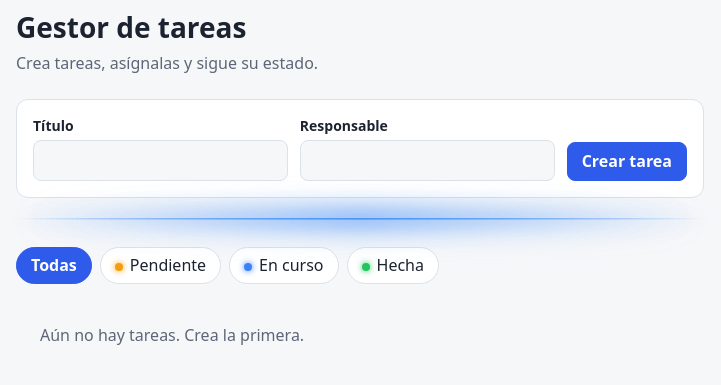
Test: App (integración) › si crear falla, la notificación «Creando…» no se queda colgada y el error lo muestra el formulario
The width and height of the screenshot is (721, 385).
In the field labelled "Título": (160, 161) top-left (33, 140), bottom-right (288, 181), type "Algo"
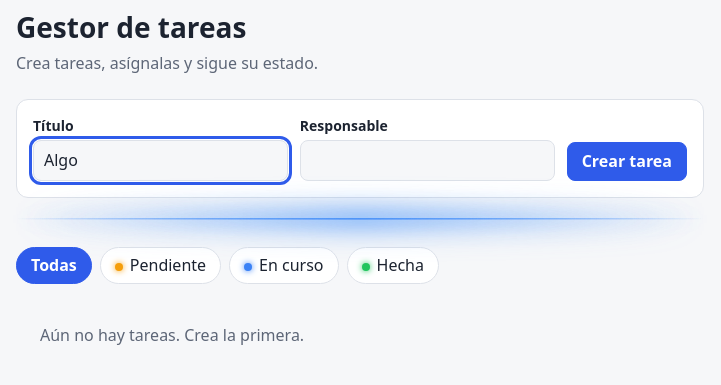
In the field labelled "Responsable": (427, 161) top-left (300, 140), bottom-right (555, 181), type "Ana"
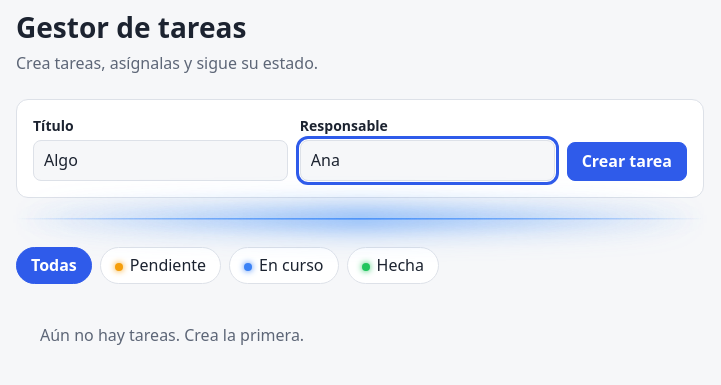
Click the button "Crear tarea": (627, 162) top-left (567, 142), bottom-right (687, 181)
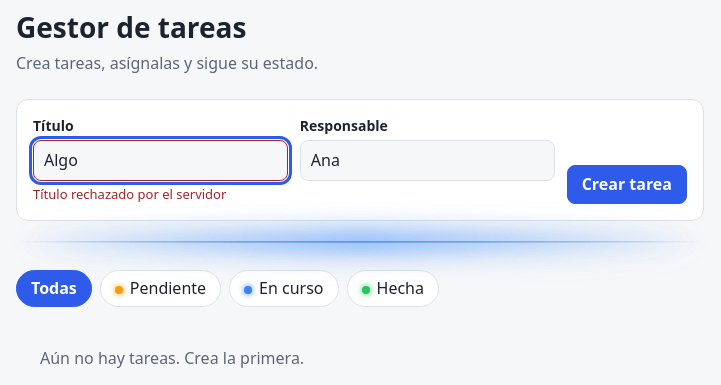
Check: the text "Título rechazado por el servidor" is shown, box top-left (33, 185), bottom-right (226, 203)
